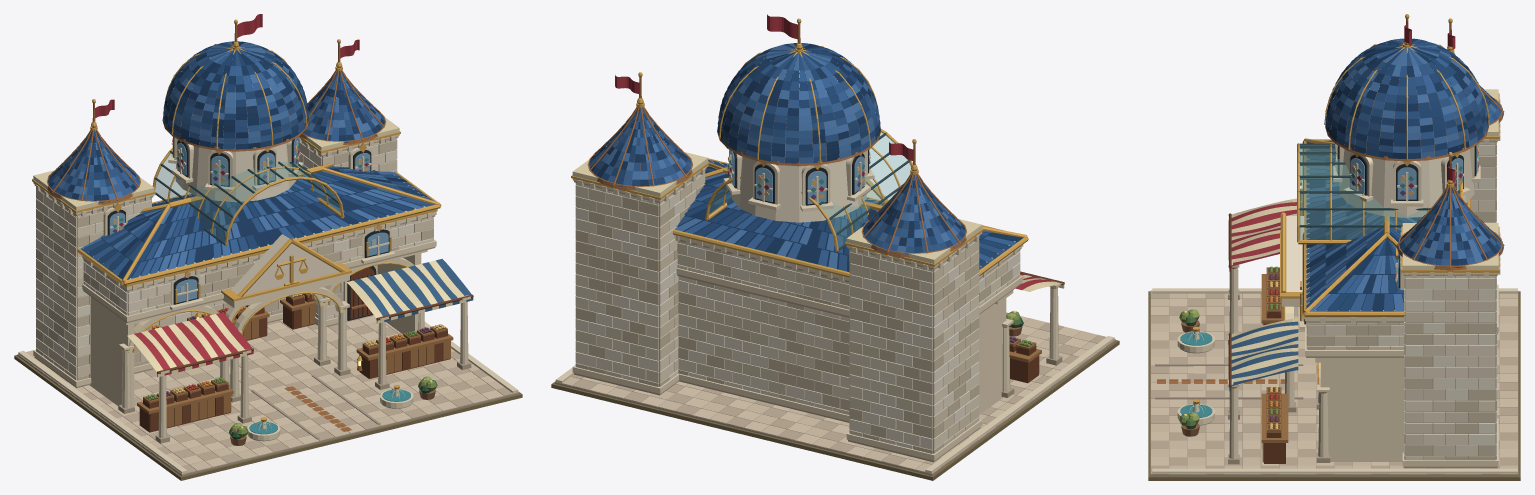
File: market-nivel-10.glb
3 views of the same model, side by side, from view 1: azimuth 30°, elevation 25°; view 2: azimuth 150°, elevation 25°; view 3: azimuth 270°, elevation 25° (orthographic). The views are drawn at different scales.
Visible parts, largest first — view 1: Mercado 10 #e6d7ba, Mercado 10 #1b385b, Mercado 10 #d5a452, Mercado 10 #e8dcc5, Mercado 10 #dac9af, Mercado 10 #d3c3a9, Mercado 10 #c1af99, Mercado 10 #234771, Mercado 10 #355f90, Mercado 10 #4670a0, Mercado 10 #ded1b9, Mercado 10 #eadbb2 (+17 smaller); view 2: Mercado 10 #e8dcc5, Mercado 10 #ded1b9, Mercado 10 #cec1a8, Mercado 10 #eae1ce, Mercado 10 #e6d7ba, Mercado 10 #355f90, Mercado 10 #234771, Mercado 10 #1b385b, Mercado 10 #4670a0, Mercado 10 #2e5481, Mercado 10 #d5a452, Mercado 10 #dac9af (+13 smaller); view 3: Mercado 10 #e6d7ba, Mercado 10 #e8dcc5, Mercado 10 #d3c3a9, Mercado 10 #c1af99, Mercado 10 #dac9af, Mercado 10 #1b385b, Mercado 10 #234771, Mercado 10 #4670a0, Mercado 10 #ded1b9, Mercado 10 #355f90, Mercado 10 #d5a452, Mercado 10 #2e5481 (+17 smaller).
Part boxes in pixels (x1,y1,x2,y2): Mercado 10 #e6d7ba: (18, 131, 518, 473); Mercado 10 #1b385b: (57, 41, 423, 279); Mercado 10 #d5a452: (32, 19, 441, 421); Mercado 10 #e8dcc5: (36, 138, 433, 366); Mercado 10 #dac9af: (33, 315, 503, 467); Mercado 10 #d3c3a9: (17, 319, 504, 470); Mercado 10 #c1af99: (26, 320, 519, 474); Mercado 10 #234771: (49, 41, 428, 279); Mercado 10 #355f90: (49, 43, 432, 276); Mercado 10 #4670a0: (52, 41, 423, 271); Mercado 10 #ded1b9: (36, 135, 433, 380); Mercado 10 #eadbb2: (33, 117, 466, 377); Mercado 10 #e8dcc5: (575, 156, 1007, 449); Mercado 10 #ded1b9: (575, 168, 1020, 446); Mercado 10 #cec1a8: (575, 184, 1011, 453); Mercado 10 #eae1ce: (575, 174, 1020, 449); Mercado 10 #e6d7ba: (555, 150, 1114, 473); Mercado 10 #355f90: (589, 43, 1016, 266); Mercado 10 #234771: (592, 44, 1010, 266); Mercado 10 #1b385b: (590, 43, 1023, 271); Mercado 10 #4670a0: (589, 43, 961, 268); Mercado 10 #2e5481: (593, 48, 1005, 271); Mercado 10 #d5a452: (571, 18, 1057, 327); Mercado 10 #dac9af: (582, 316, 1096, 469); Mercado 10 #e6d7ba: (1152, 135, 1517, 474); Mercado 10 #e8dcc5: (1286, 142, 1496, 460); Mercado 10 #d3c3a9: (1151, 293, 1517, 474); Mercado 10 #c1af99: (1151, 290, 1517, 474); Mercado 10 #dac9af: (1151, 293, 1517, 474); Mercado 10 #1b385b: (1306, 43, 1499, 311); Mercado 10 #234771: (1306, 38, 1502, 311); Mercado 10 #4670a0: (1306, 38, 1500, 311); Mercado 10 #ded1b9: (1303, 99, 1500, 460); Mercado 10 #355f90: (1306, 38, 1503, 311); Mercado 10 #d5a452: (1193, 14, 1499, 404); Mercado 10 #2e5481: (1306, 39, 1499, 311).
Bounding box in the file's own units: 12.79 × 11.98 × 10.82.
